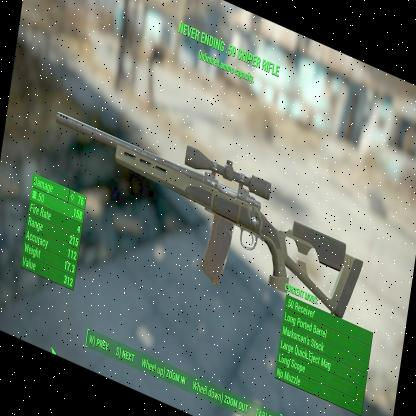rifle: (40, 93, 368, 325)
